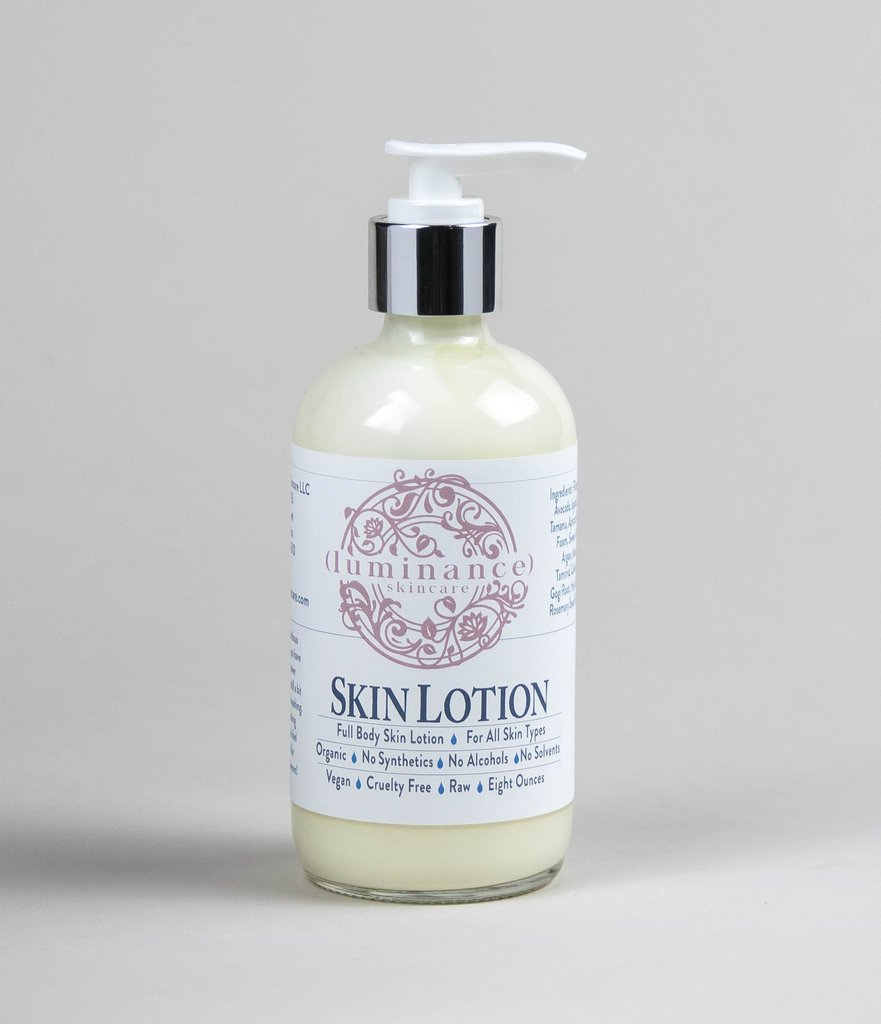Nonrec_Plastic: (169, 92, 688, 919)
